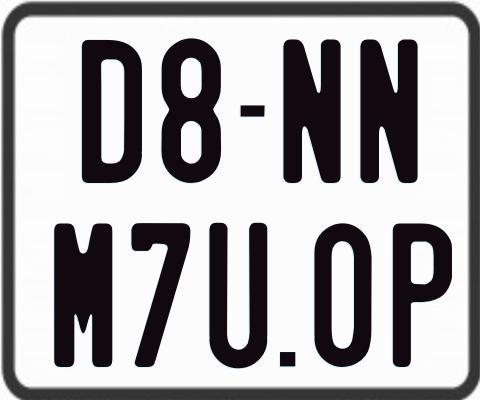0: (311, 221, 375, 371)
7: (129, 221, 194, 371)
8: (158, 37, 221, 183)
D: (82, 40, 146, 189)
M: (54, 222, 112, 367)
N: (281, 39, 344, 185), (360, 39, 423, 182)
P: (393, 221, 457, 364)
U: (209, 223, 271, 374)
